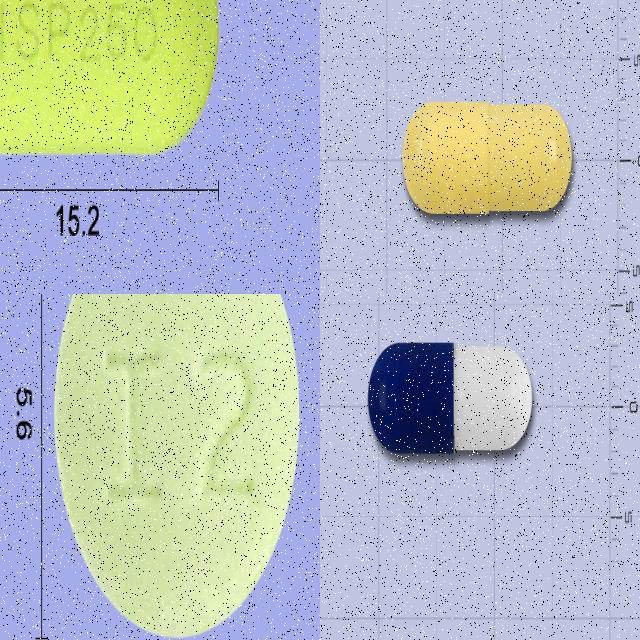Ilsung Clarithromycin - 500mg: (0, 0, 220, 152)
Immuthera - 50mg: (53, 294, 299, 640)
Oneflu Cap: (368, 343, 532, 456)
Supric Cap: (402, 102, 574, 215)
